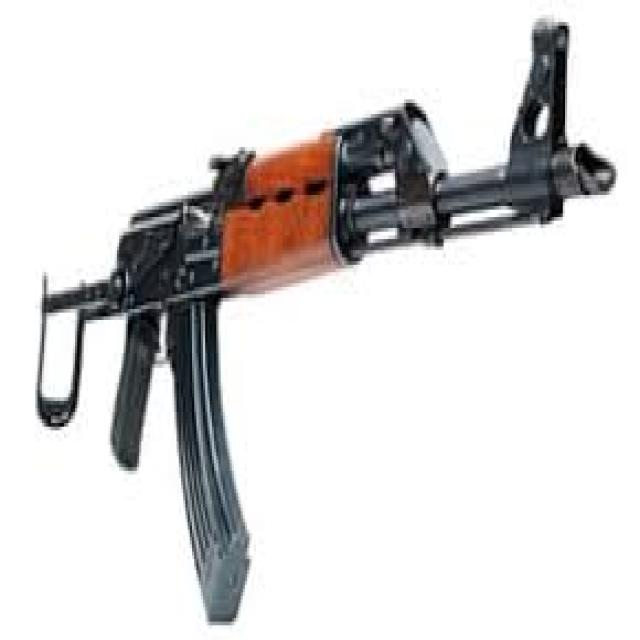rifle: (34, 8, 619, 640)
